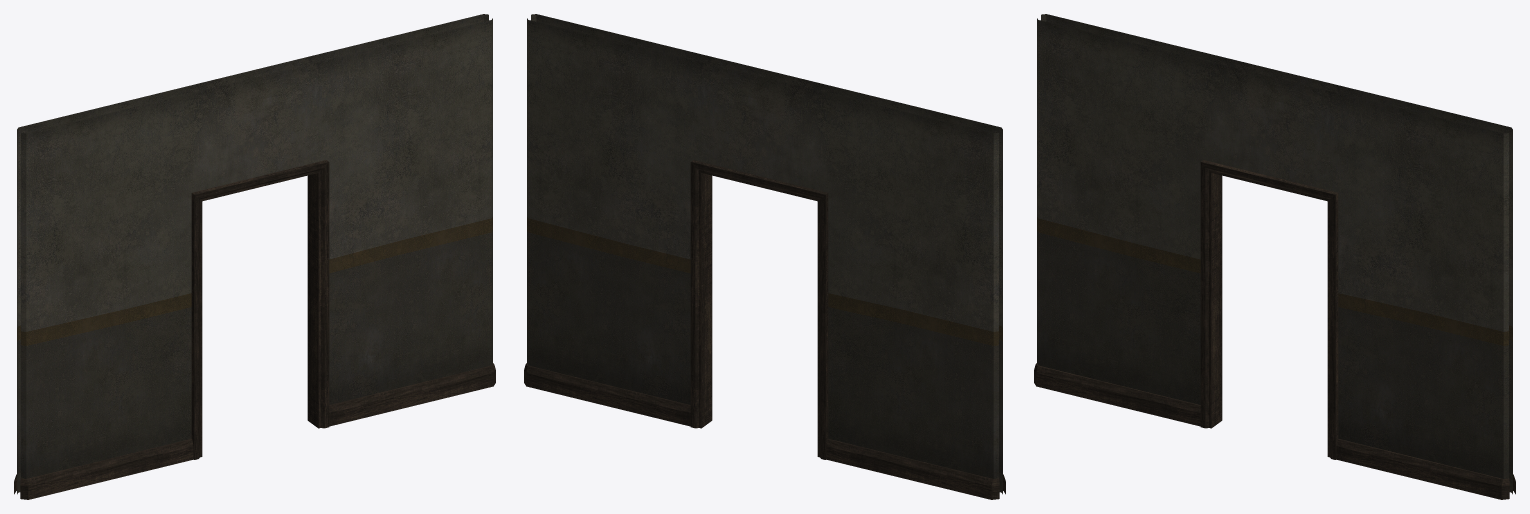
Rendered from doorway_1.obj.
3 renders of one model, left to right at view 1: azimuth 30°, elevation 25°; view 2: azimuth 150°, elevation 25°; view 3: azimuth 330°, elevation 25°, orthographic.
Parts seen in each view (by area): view 1: doorway_1; view 2: doorway_1; view 3: doorway_1.
Boxes of the visible parts, <box> form: doorway_1: <box>14,14,495,499</box>; doorway_1: <box>524,14,1005,499</box>; doorway_1: <box>1034,14,1515,499</box>.
Bounding box in the file's own units: 4.09 × 3 × 0.2.
